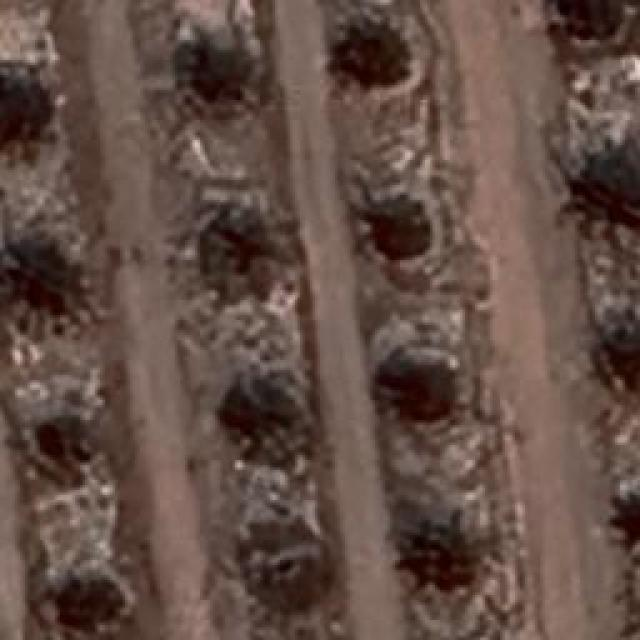PalmTree: (45, 75, 617, 349), (391, 505, 491, 595), (222, 380, 316, 472), (179, 30, 269, 110), (80, 52, 374, 75), (200, 202, 278, 286), (6, 246, 72, 332), (376, 344, 452, 414), (587, 137, 640, 237), (360, 182, 432, 255), (24, 401, 88, 481), (0, 71, 48, 151), (55, 564, 115, 626), (554, 0, 634, 44), (611, 480, 640, 556), (620, 478, 640, 552)
